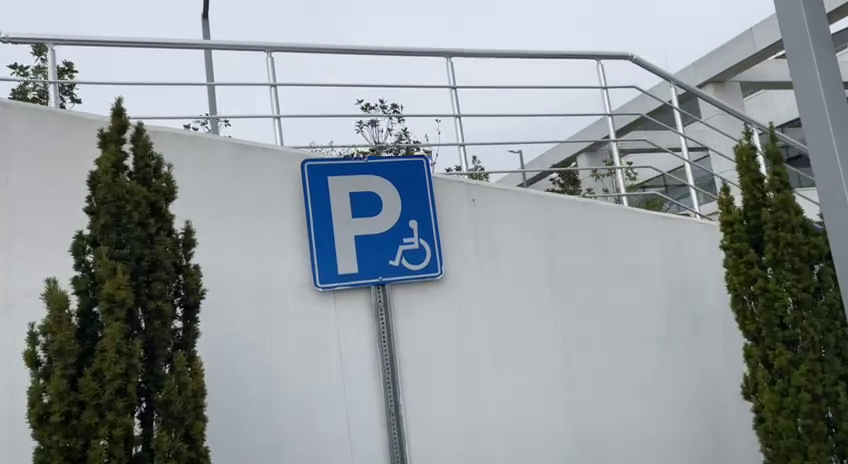parking: (301, 150, 446, 291)
